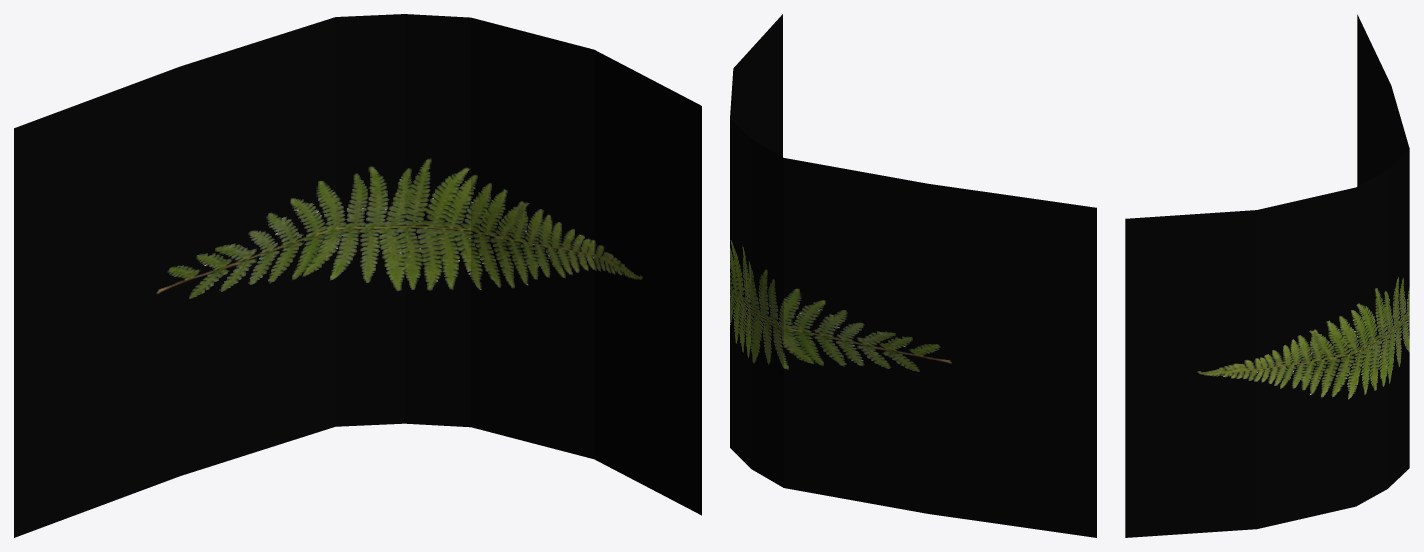
Rendered from fern-low-poly.glb.
The picture shows the model from 3 angles, left to right: view 1: azimuth 30°, elevation 25°; view 2: azimuth 150°, elevation 25°; view 3: azimuth 270°, elevation 25°; orthographic projection. The views are drawn at different scales.
Visible parts, largest first — view 1: fern-low-poly; view 2: fern-low-poly; view 3: fern-low-poly.
Boxes of the visible parts, <box> form: fern-low-poly: <box>14,14,701,537</box>; fern-low-poly: <box>730,14,1096,537</box>; fern-low-poly: <box>1125,14,1409,537</box>.
Bounding box in the file's own units: 1.38 × 1 × 0.8077.
1 material, 1 textured.
